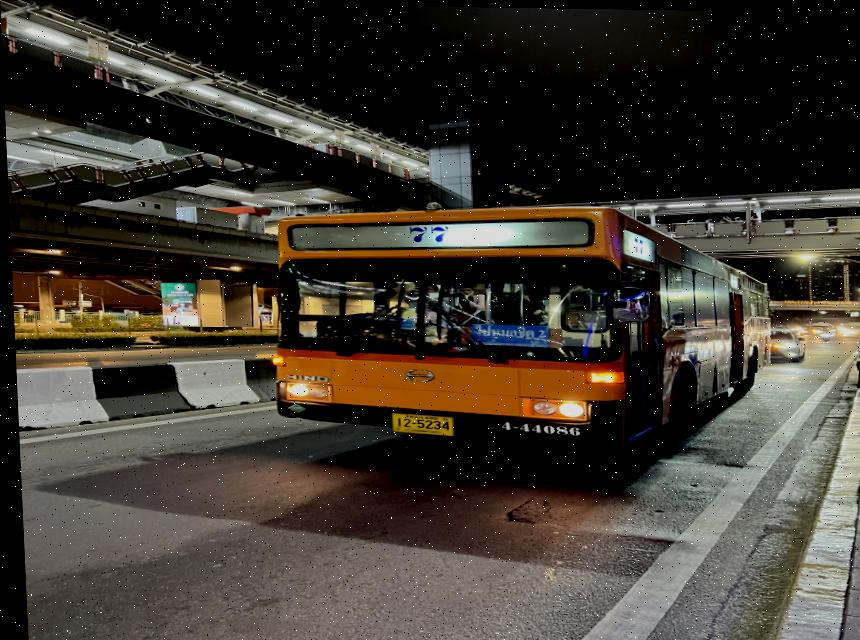BMTA-bus: (269, 205, 769, 450)
Bus Line Number: (382, 218, 473, 246)
Bus Side Number: (490, 417, 585, 441)
Destination Sign: (465, 321, 554, 346)
